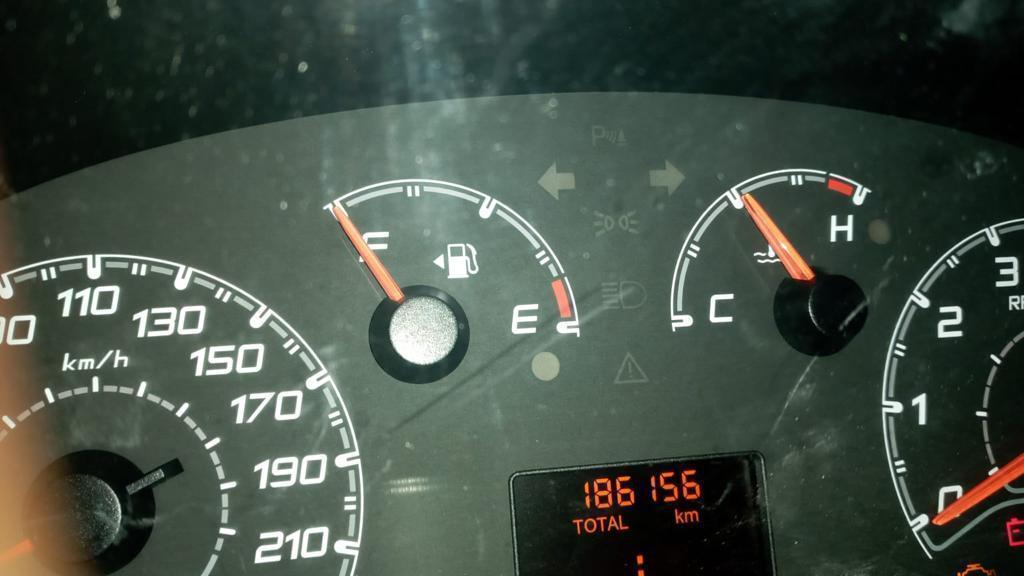1: (581, 479, 591, 509), (648, 474, 658, 502)
5: (658, 470, 679, 502)
6: (614, 474, 636, 507), (680, 468, 702, 500)
8: (592, 476, 614, 509)
X: (634, 553, 645, 576), (683, 509, 700, 523), (583, 517, 597, 534), (570, 517, 583, 535), (607, 514, 619, 532), (672, 507, 684, 524), (618, 514, 630, 530), (595, 516, 607, 532)
odometer: (506, 449, 778, 576)
